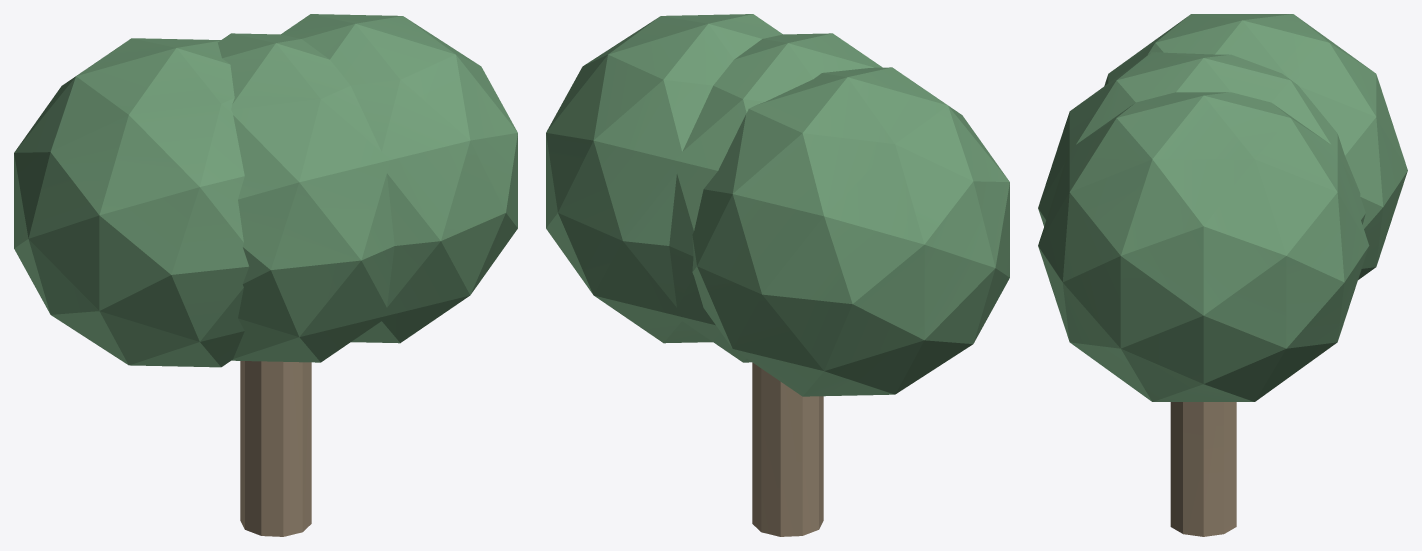
The model's file is broadleaf-04.glb.
3 views of the same model, side by side, from view 1: azimuth 30°, elevation 25°; view 2: azimuth 150°, elevation 25°; view 3: azimuth 270°, elevation 25° (orthographic). The views are drawn at different scales.
Parts seen in each view (by area): view 1: world; view 2: world; view 3: world.
Boxes of the visible parts, box(x1,y1,x2,y2) form: world: box(14, 14, 517, 536); world: box(546, 14, 1009, 536); world: box(1038, 14, 1407, 536).
Bounding box in the file's own units: 1.32 × 1.32 × 0.9557.
